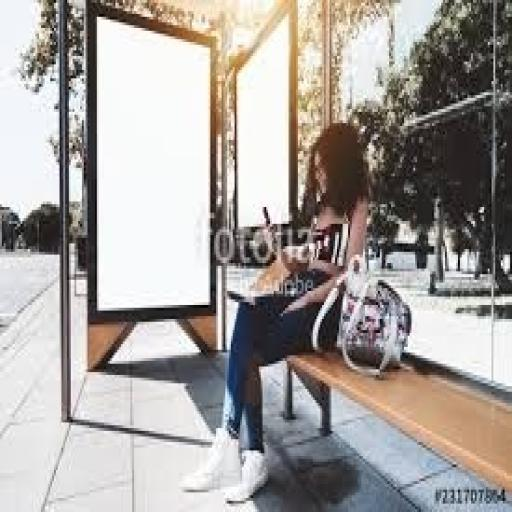sitting: (179, 118, 372, 504)
